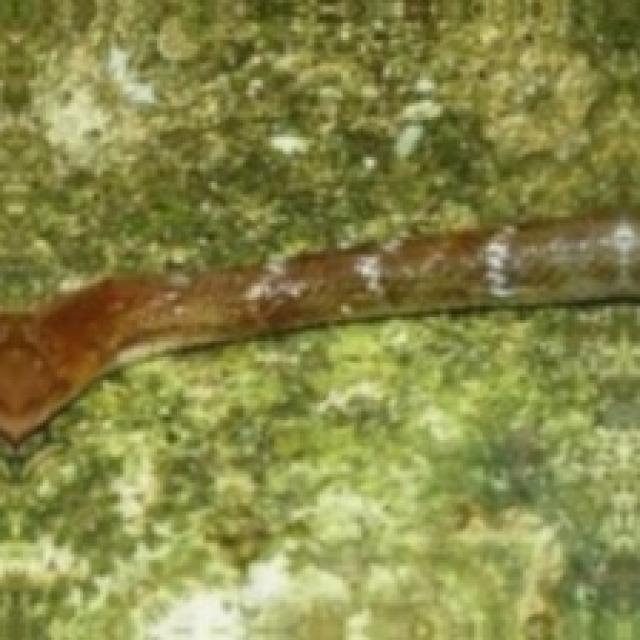reddish rat snake: (0, 217, 637, 443)
